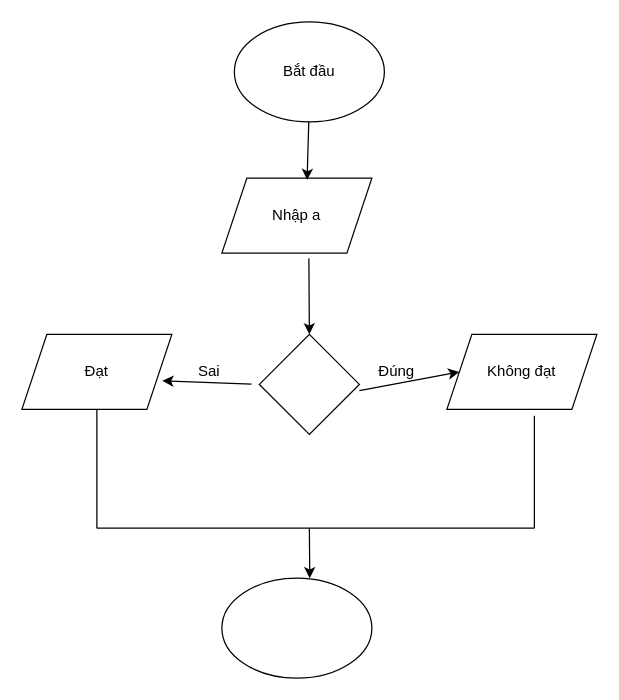
Image size: 619x700. Some labels were removed from this diagram. Each missing label, with the box of its shape:
a<5: (258, 333, 359, 434)
End: (221, 577, 372, 678)
